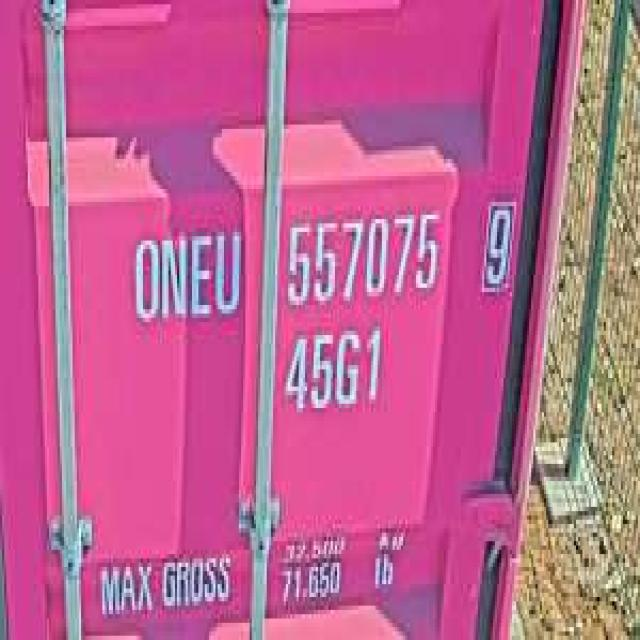dv: (478, 189, 516, 296)
owner: (128, 219, 247, 331)
serial: (282, 202, 442, 309)
size: (277, 318, 386, 417)
